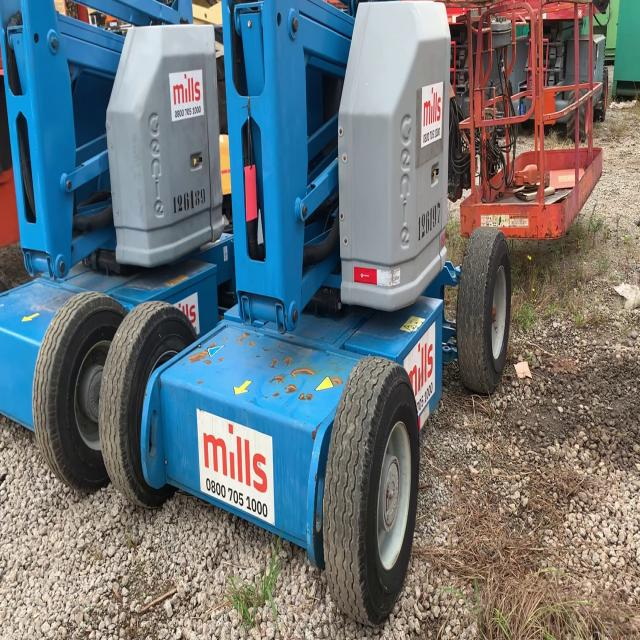Adesivos: (196, 407, 276, 528), (167, 68, 205, 124), (420, 80, 444, 150)
